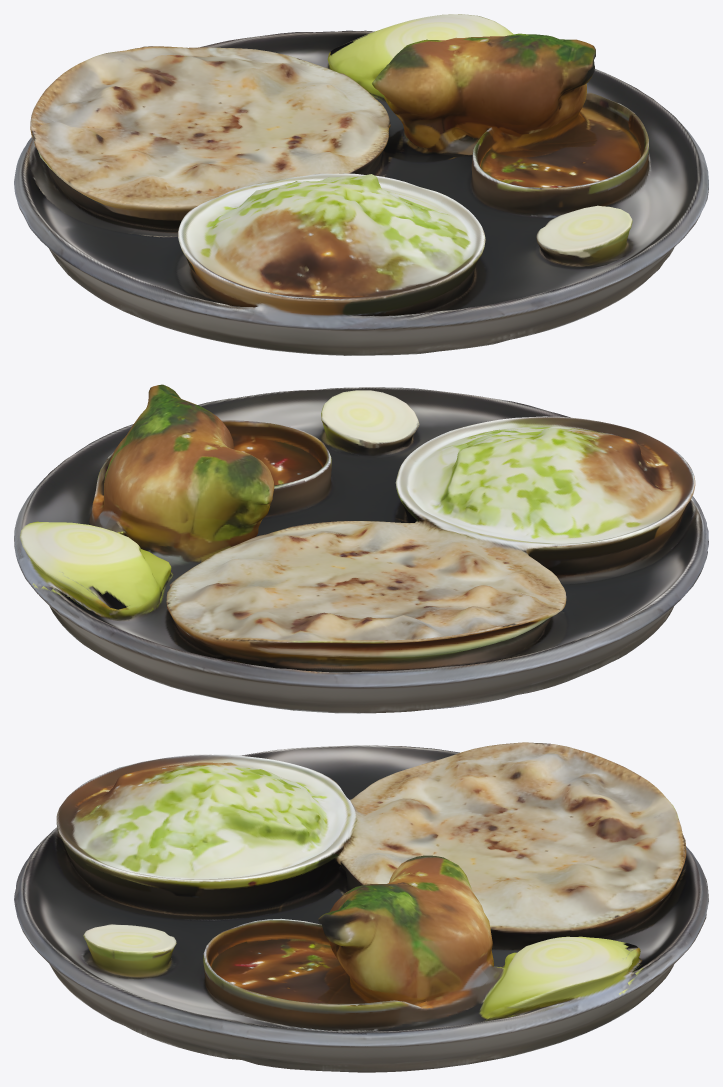
Rendered from indian_thali.glb.
3 renders of one model, top to bottom at view 1: azimuth 30°, elevation 25°; view 2: azimuth 150°, elevation 25°; view 3: azimuth 270°, elevation 25°, orthographic.
Visible parts, largest first — view 1: model; view 2: model; view 3: model.
Boxes of the visible parts, <box> form: model: <box>14,14,708,355</box>; model: <box>14,384,708,713</box>; model: <box>14,742,708,1072</box>.
Bounding box in the file's own units: 1.9 × 0.4385 × 1.89.
1 material, 1 textured.
